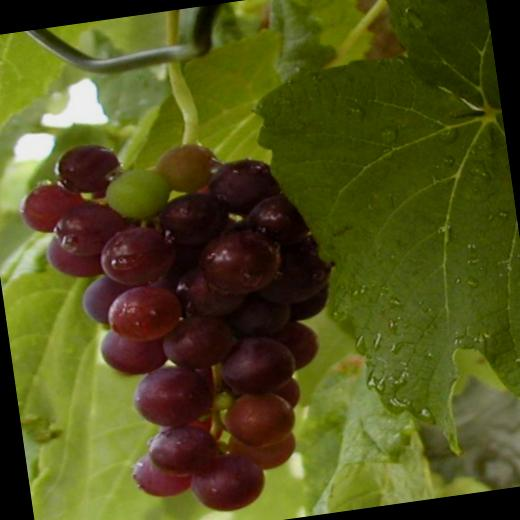Orange: (8, 114, 363, 520)
